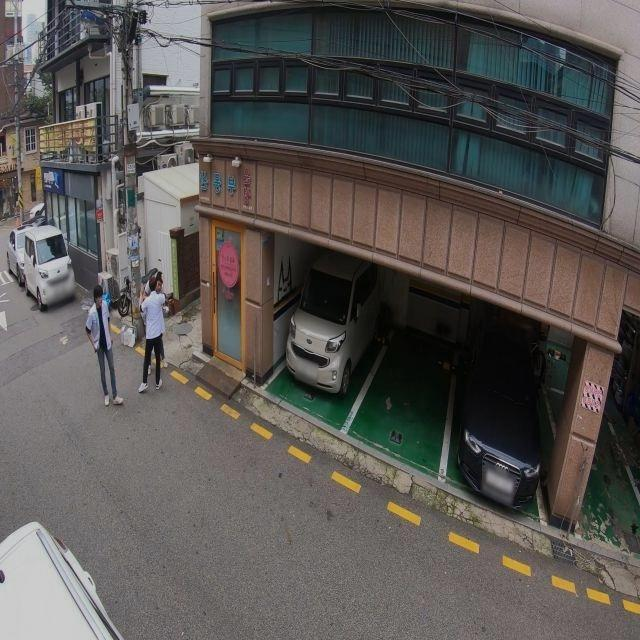fight: (137, 270, 171, 390)
non-fight: (86, 289, 124, 403)
